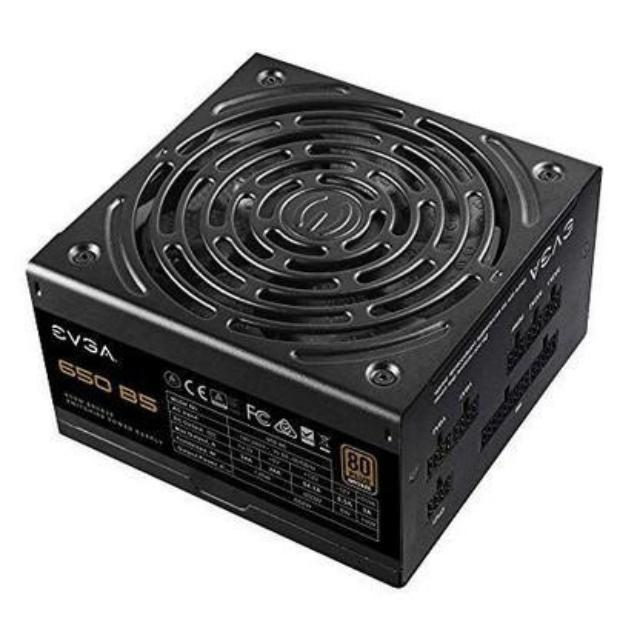PSU: (18, 39, 612, 592)
